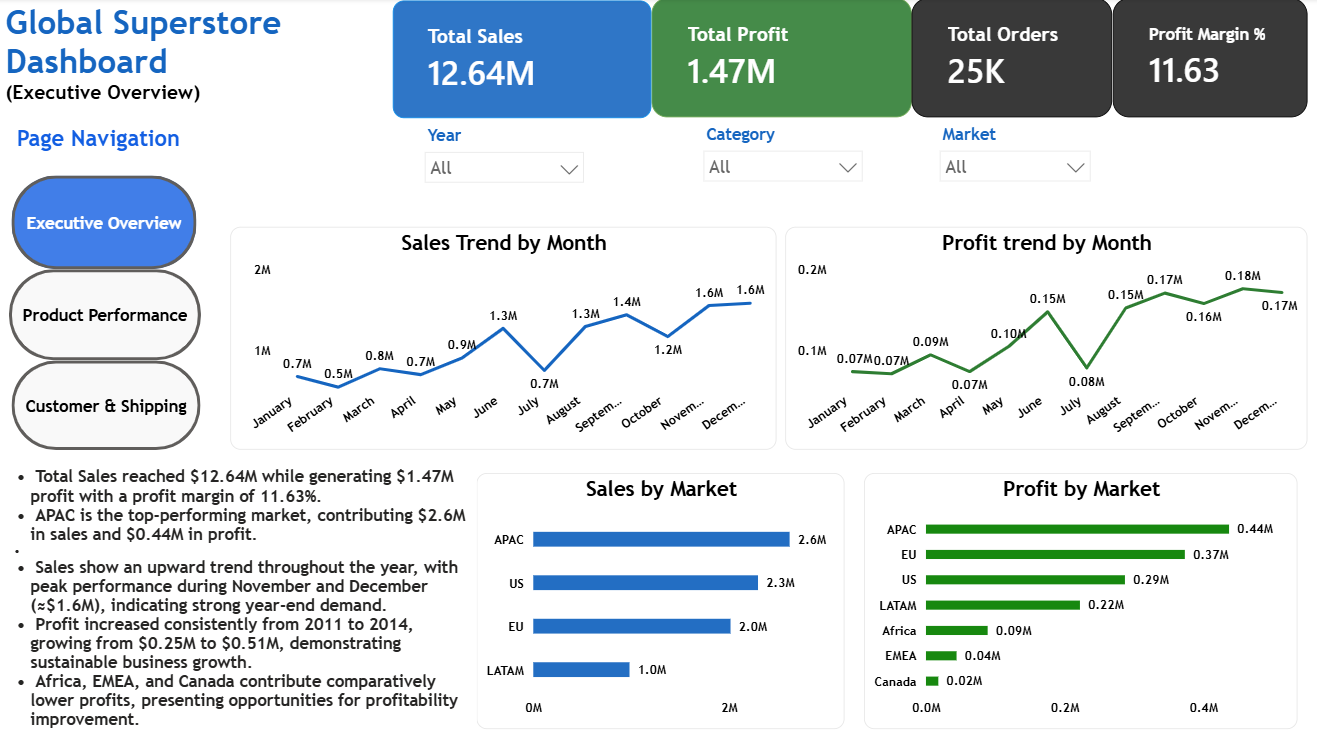

Layout of this report page (visuals, bound fields, positions):
{"tool":"powerbi","page":{"name":"Executive Overview","canvas":[1280,720],"ordinal":0},"visuals":[{"type":"cardVisual","title":"Total Profit","fields":{"Data":["Global_Superstore.Total Profit"]},"box":[629.8,0,251.1,115.3],"z":0},{"type":"clusteredBarChart","title":"Profit by Market","fields":{"Category":["Global_Superstore.Market"],"Y":["Sum(Global_Superstore.Profit)"]},"box":[834.3,458.3,418.5,247],"z":1000},{"type":"slicer","title":"Category","fields":{"Values":["Global_Superstore.Category"]},"box":[669.6,116.6,174.3,68.6],"z":2000},{"type":"slicer","title":"Market","fields":{"Values":["Global_Superstore.Market"]},"box":[897.4,116.6,166,68.6],"z":3000},{"type":"textbox","box":[1.4,0,344.4,115.3],"z":4000},{"type":"clusteredBarChart","fields":{"Category":["Global_Superstore.Market"],"Y":["Sum(Global_Superstore.Sales)"]},"box":[461.1,458.3,355.4,247],"z":5000},{"type":"cardVisual","title":"Total Orders","fields":{"Data":["Global_Superstore.Total Orders"]},"box":[881,0,193.5,115.3],"z":6000},{"type":"cardVisual","title":"Profit Margin %","fields":{"Data":["Global_Superstore.Profit Margin %"]},"box":[1074.4,0,188,115.3],"z":7000},{"type":"lineChart","fields":{"Y":["Sum(Global_Superstore.Profit)"],"Category":["Global_Superstore.Order_Date.Variation.Date Hierarchy.Year","Global_Superstore.Order_Date.Variation.Date Hierarchy.Month"]},"box":[758.8,220.9,503.6,215.4],"z":8000},{"type":"lineChart","fields":{"Category":["Global_Superstore.Order_Date.Variation.Date Hierarchy.Year","Global_Superstore.Order_Date.Variation.Date Hierarchy.Month"],"Y":["Sum(Global_Superstore.Sales)"]},"box":[223.7,220.9,526.9,215.4],"z":9000},{"type":"cardVisual","fields":{"Data":["Global_Superstore.TotalSale"]},"box":[380.1,2.7,249.7,113.9],"z":10000},{"type":"slicer","title":"Category","fields":{"Values":["Global_Superstore.Order_Date.Variation.Date Hierarchy.Year"]},"box":[400.7,118,174.3,68.6],"z":11000},{"type":"textbox","box":[1.4,447.3,459.7,273.1],"z":12000},{"type":"actionButton","box":[9.6,262.1,185.2,87.8],"z":13000},{"type":"actionButton","box":[12.3,349.9,182.5,86.4],"z":14000},{"type":"textbox","box":[12.3,118,172.9,53.5],"z":15000},{"type":"actionButton","box":[12.1,171.3,178.6,90.5],"z":16000}]}

Visuals, with their boxes in screenshot pixels (x1, y1, x2, y2), scaled from the page's 1280x720 canvas onto the 1317x735 screenshot:
"Total Profit" cardVisual: left=648, top=0, right=906, bottom=118
"Profit by Market" clusteredBarChart: left=858, top=468, right=1289, bottom=720
"Category" slicer: left=689, top=119, right=868, bottom=189
"Market" slicer: left=923, top=119, right=1094, bottom=189
textbox: left=1, top=0, right=356, bottom=118
clusteredBarChart - Global_Superstore.Market x Sum(Global_Superstore.Sales): left=474, top=468, right=840, bottom=720
"Total Orders" cardVisual: left=906, top=0, right=1106, bottom=118
"Profit Margin %" cardVisual: left=1105, top=0, right=1299, bottom=118
lineChart - Sum(Global_Superstore.Profit) x Global_Superstore.Order_Date.Variation.Date Hierarchy.Year: left=781, top=226, right=1299, bottom=445
lineChart - Global_Superstore.Order_Date.Variation.Date Hierarchy.Year x Global_Superstore.Order_Date.Variation.Date Hierarchy.Month: left=230, top=226, right=772, bottom=445
cardVisual - Global_Superstore.TotalSale: left=391, top=3, right=648, bottom=119
"Category" slicer: left=412, top=120, right=592, bottom=190
textbox: left=1, top=457, right=474, bottom=734
actionButton: left=10, top=268, right=200, bottom=357
actionButton: left=13, top=357, right=200, bottom=445
textbox: left=13, top=120, right=191, bottom=175
actionButton: left=12, top=175, right=196, bottom=267
